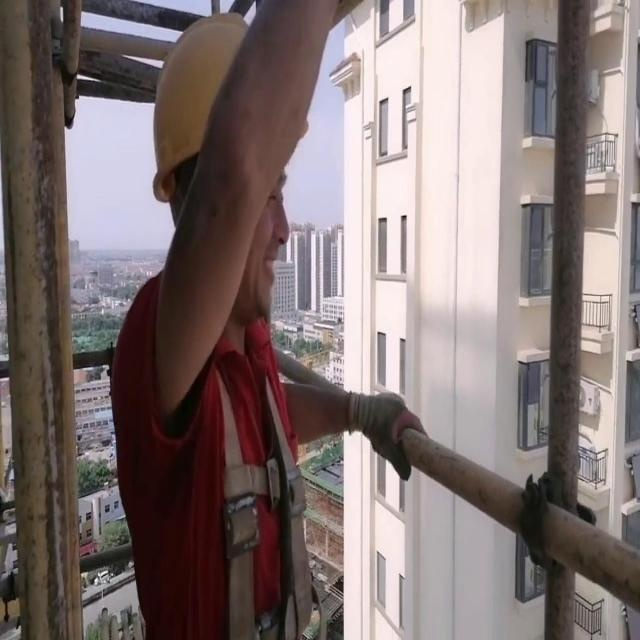Arnes_seguridad: (151, 302, 336, 639)
